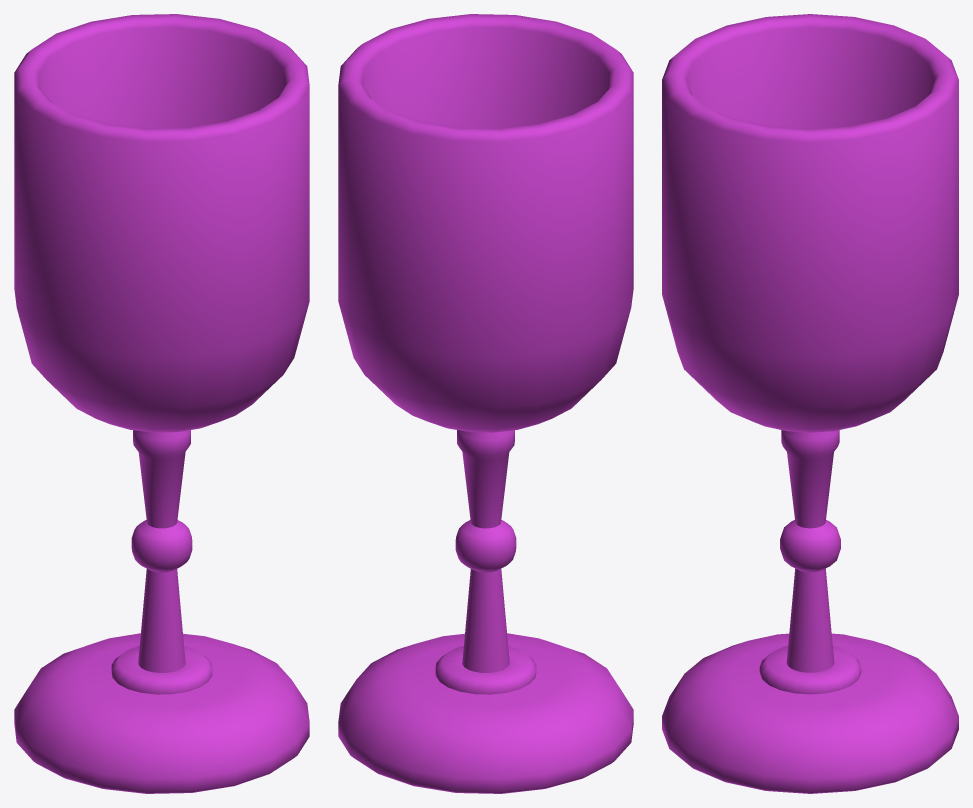
The picture shows the model from 3 angles, left to right: view 1: azimuth 30°, elevation 25°; view 2: azimuth 150°, elevation 25°; view 3: azimuth 270°, elevation 25°; orthographic projection.
Visible parts, largest first — view 1: defaultMaterial; view 2: defaultMaterial; view 3: defaultMaterial.
Part boxes in pixels (x1,y1,x2,y2): defaultMaterial: (14, 14, 309, 793); defaultMaterial: (338, 14, 633, 793); defaultMaterial: (662, 14, 958, 793).
Bounding box in the file's own units: 0.4085 × 1 × 0.4085.
